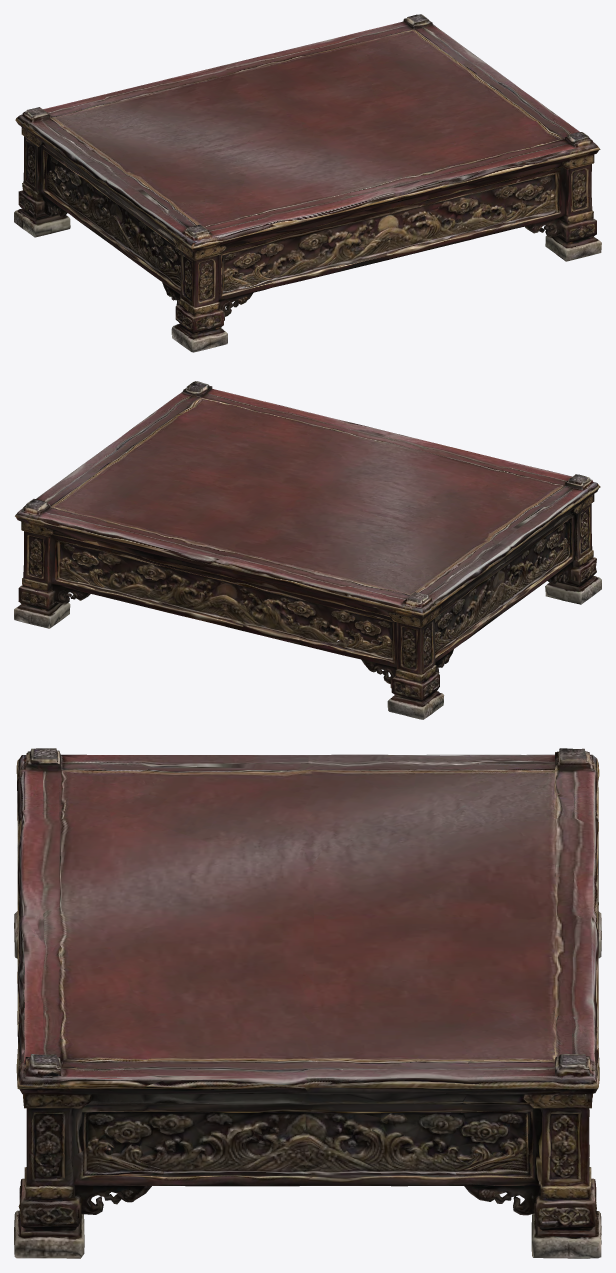
Rendered from plinth.glb.
3 views of the same model, one above another, from view 1: azimuth 30°, elevation 25°; view 2: azimuth 150°, elevation 25°; view 3: azimuth 270°, elevation 25° (orthographic). The views are drawn at different scales.
Visible parts, largest first — view 1: tripo_node_373d6e20-8c28-495e-acf1-57c81c4ce2db; view 2: tripo_node_373d6e20-8c28-495e-acf1-57c81c4ce2db; view 3: tripo_node_373d6e20-8c28-495e-acf1-57c81c4ce2db.
Boxes of the visible parts, bbox=[...] form: tripo_node_373d6e20-8c28-495e-acf1-57c81c4ce2db: bbox=[14, 14, 601, 352]; tripo_node_373d6e20-8c28-495e-acf1-57c81c4ce2db: bbox=[14, 381, 601, 719]; tripo_node_373d6e20-8c28-495e-acf1-57c81c4ce2db: bbox=[14, 748, 601, 1258].
Size of the model in its own units: 0.9796 by 0.2606 by 0.7391.
1 material, 1 textured.
